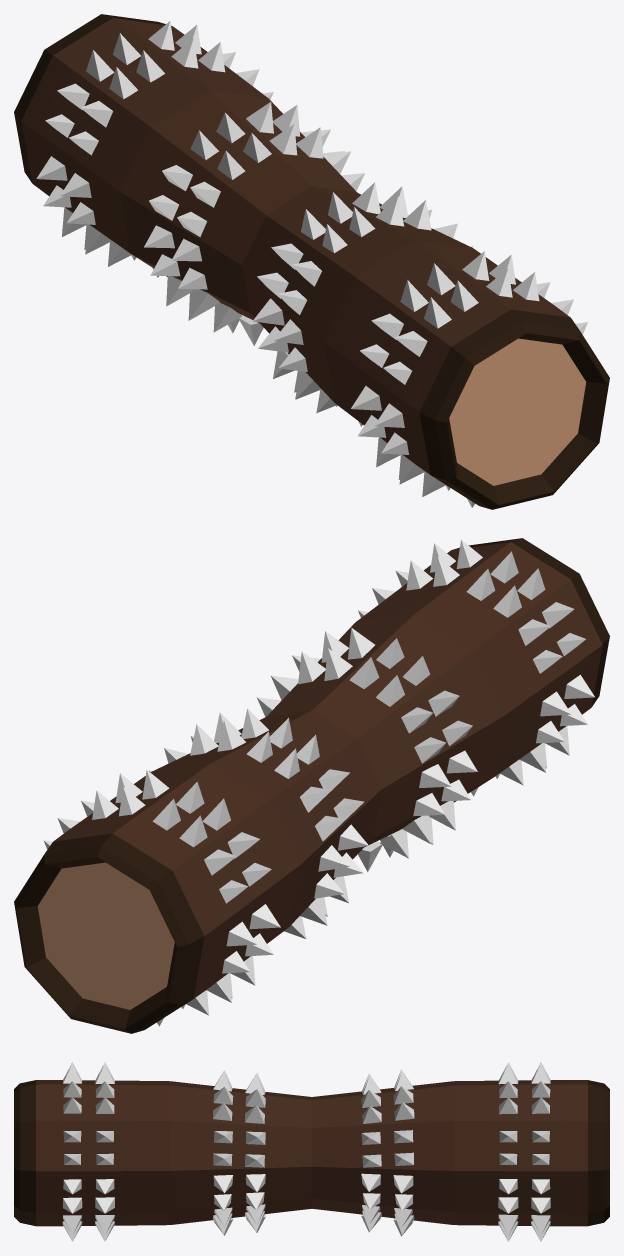
File: Log.fbx
3 views of the same model, one above another, from view 1: azimuth 30°, elevation 25°; view 2: azimuth 150°, elevation 25°; view 3: azimuth 270°, elevation 25° (orthographic). The views are drawn at different scales.
Parts seen in each view (by area): view 1: Cylinder; view 2: Cylinder; view 3: Cylinder, Cube.043, Cube.089, Cube.094, Cube.076, Cube.078, Cube.075, Cube.088, Cube.041, Cube.042, Cube.095, Cube.073 (+7 smaller).
Part boxes in pixels (x1,y1,x2,y2): Cylinder: (14, 14, 609, 509); Cylinder: (14, 538, 609, 1033); Cylinder: (14, 1080, 609, 1226); Cube.043: (498, 1197, 518, 1213); Cube.089: (393, 1175, 413, 1193); Cube.094: (245, 1174, 265, 1191); Cube.076: (245, 1105, 264, 1123); Cube.078: (245, 1089, 265, 1107); Cube.075: (394, 1102, 414, 1120); Cube.088: (361, 1173, 380, 1191); Cube.041: (95, 1197, 114, 1213); Cube.042: (531, 1197, 550, 1213); Cube.095: (213, 1175, 233, 1193); Cube.073: (393, 1086, 413, 1104).
Bounding box in the file's own units: 160 × 160 × 539.
Materials: 1 (1 with a texture image).
